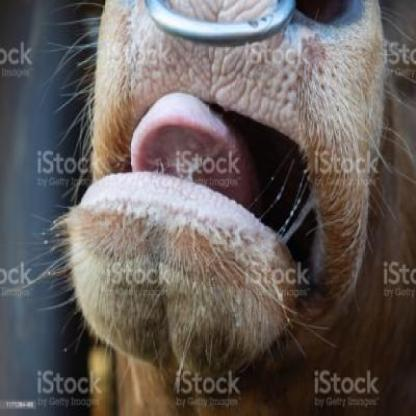lower: (159, 244, 189, 261)
mouth: (64, 0, 374, 363)
upper: (258, 50, 287, 86)
